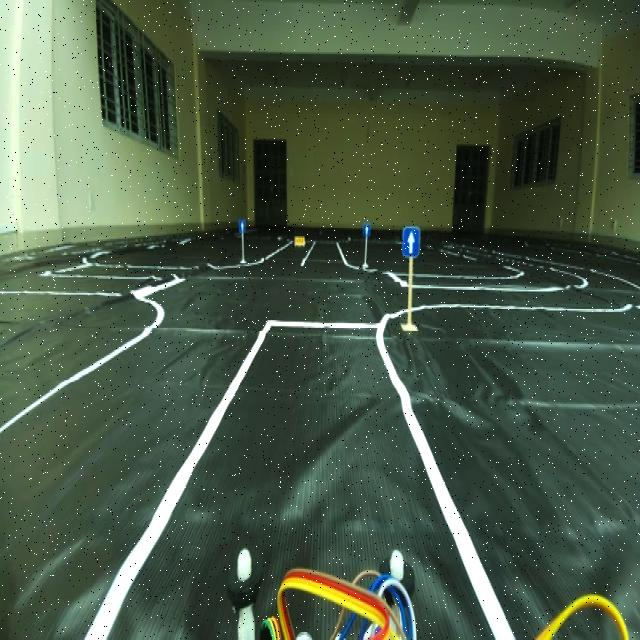onewayroad: (402, 217, 420, 271), (236, 212, 247, 234), (362, 215, 368, 243)
roadblock: (292, 233, 304, 250)
